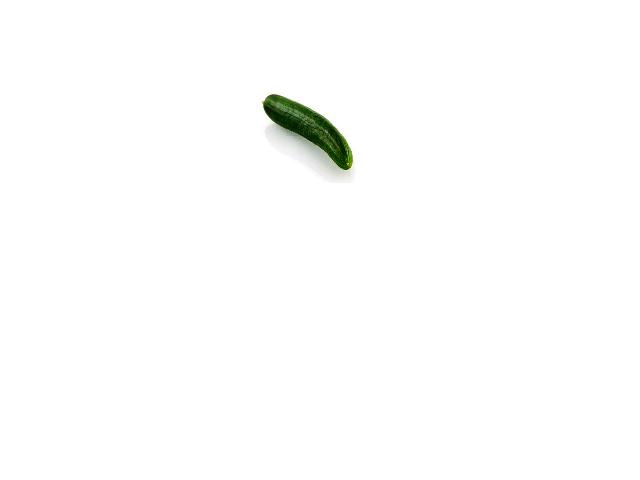cucumber: (263, 94, 352, 170)
